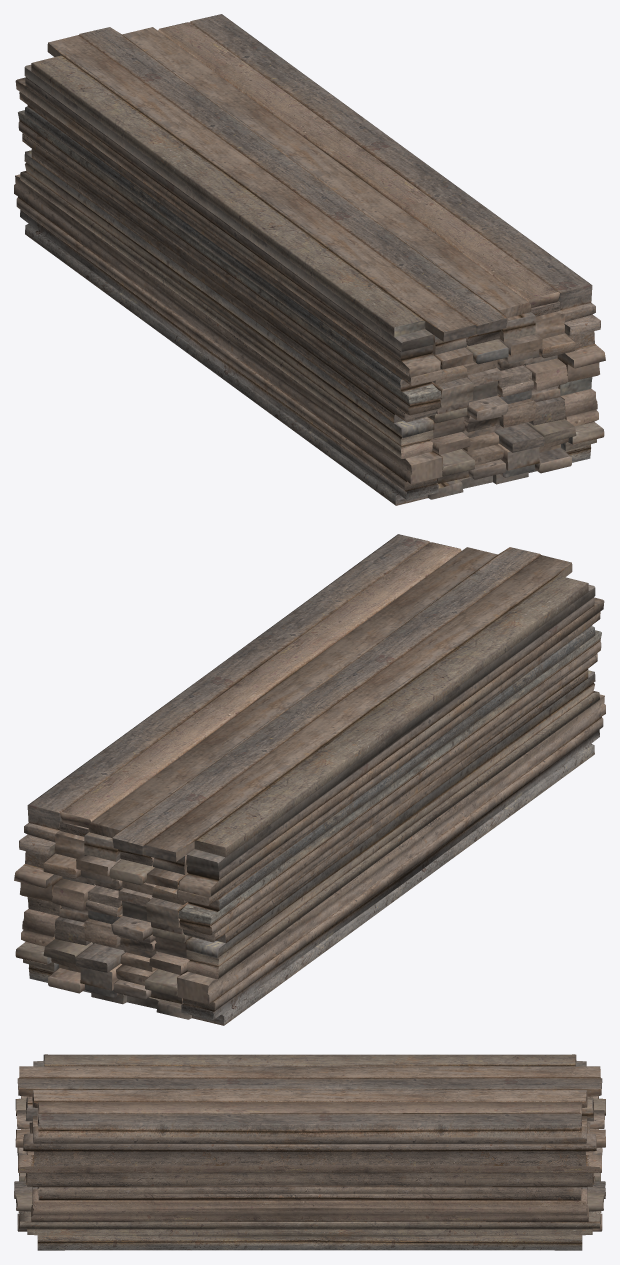
Rendered from WoodPlankStack.fbx.
3 views of the same model, one above another, from view 1: azimuth 30°, elevation 25°; view 2: azimuth 150°, elevation 25°; view 3: azimuth 270°, elevation 25° (orthographic). The views are drawn at different scales.
Visible parts, largest first — view 1: SM_COM_WoodPlankStack_01.mo; view 2: SM_COM_WoodPlankStack_01.mo; view 3: SM_COM_WoodPlankStack_01.mo.
Boxes of the visible parts, x1=… form: SM_COM_WoodPlankStack_01.mo: x1=14, y1=14, x2=605, y2=505; SM_COM_WoodPlankStack_01.mo: x1=14, y1=534, x2=605, y2=1025; SM_COM_WoodPlankStack_01.mo: x1=14, y1=1054, x2=605, y2=1250.
Size of the model in its own units: 122 by 102 by 427.
